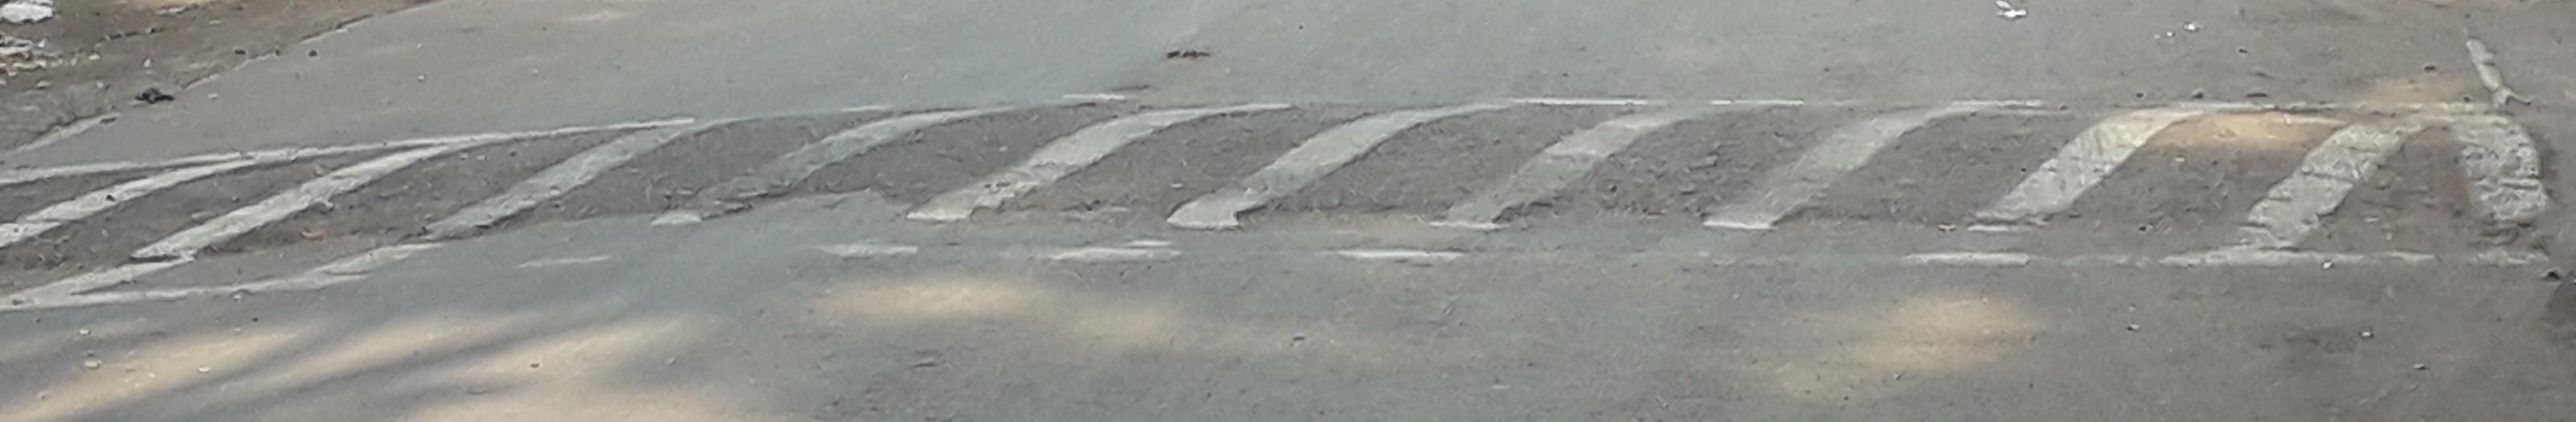speed-bump: (8, 94, 2576, 260)
